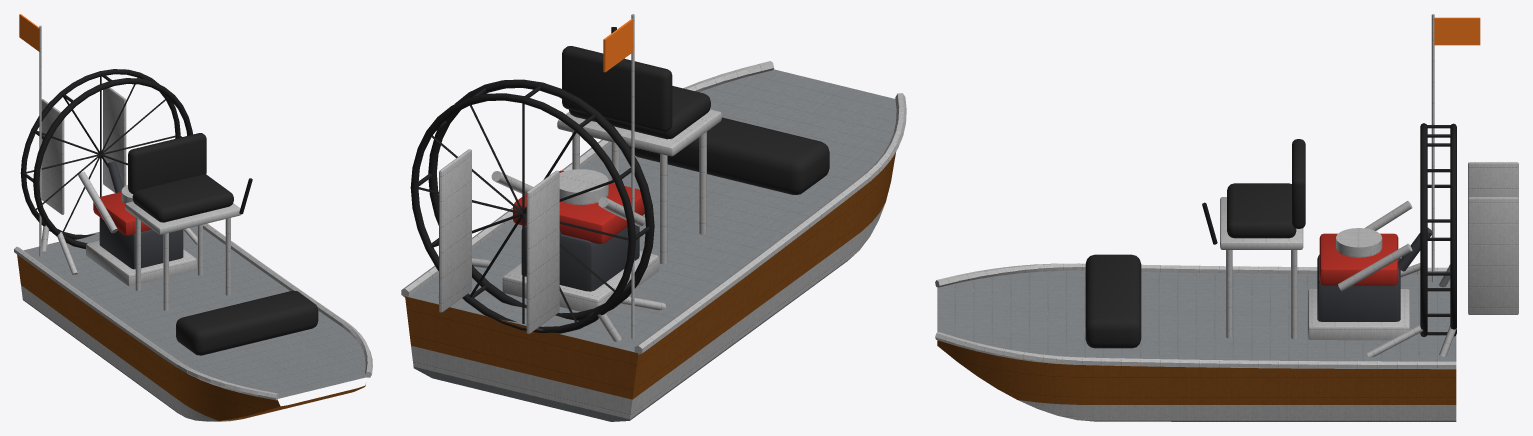
The model's file is airboat-4.glb.
3 views of the same model, side by side, from view 1: azimuth 30°, elevation 25°; view 2: azimuth 150°, elevation 25°; view 3: azimuth 270°, elevation 25° (orthographic). The views are drawn at different scales.
Visible parts, largest first — view 1: airboat-4; view 2: airboat-4; view 3: airboat-4.
Boxes of the visible parts, left/top/right/bottom form: airboat-4: left=14, top=14, right=372, bottom=421; airboat-4: left=401, top=14, right=906, bottom=421; airboat-4: left=935, top=14, right=1518, bottom=421.
Bounding box in the file's own units: 2.48 × 3.92 × 6.3.
Materials: 9 (5 with a texture image).
